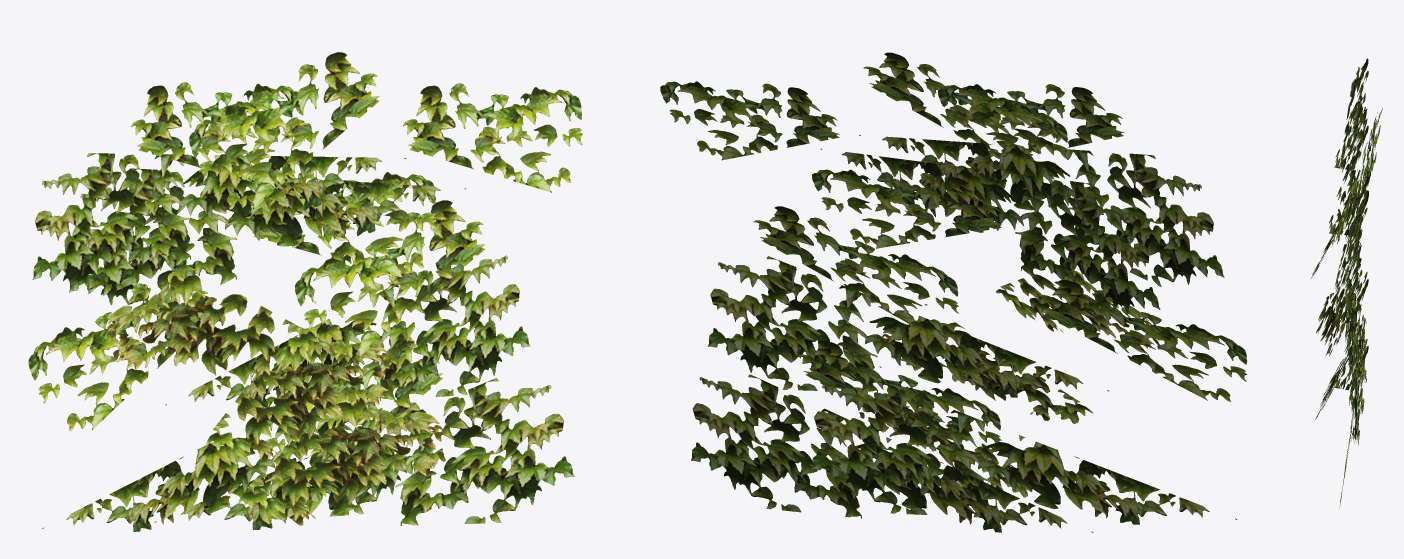
File: ivy20_lod2.fbx
3 renders of one model, left to right at view 1: azimuth 30°, elevation 25°; view 2: azimuth 150°, elevation 25°; view 3: azimuth 270°, elevation 25°, orthographic. The views are drawn at different scales.
Visible parts, largest first — view 1: Mesh Object; view 2: Mesh Object; view 3: Mesh Object.
Boxes of the visible parts, box(x1,y1,x2,y2) form: Mesh Object: box(28, 52, 582, 531); Mesh Object: box(660, 52, 1247, 532); Mesh Object: box(1310, 58, 1382, 508).
Size of the model in its own units: 3 by 2.51 by 0.6054.
